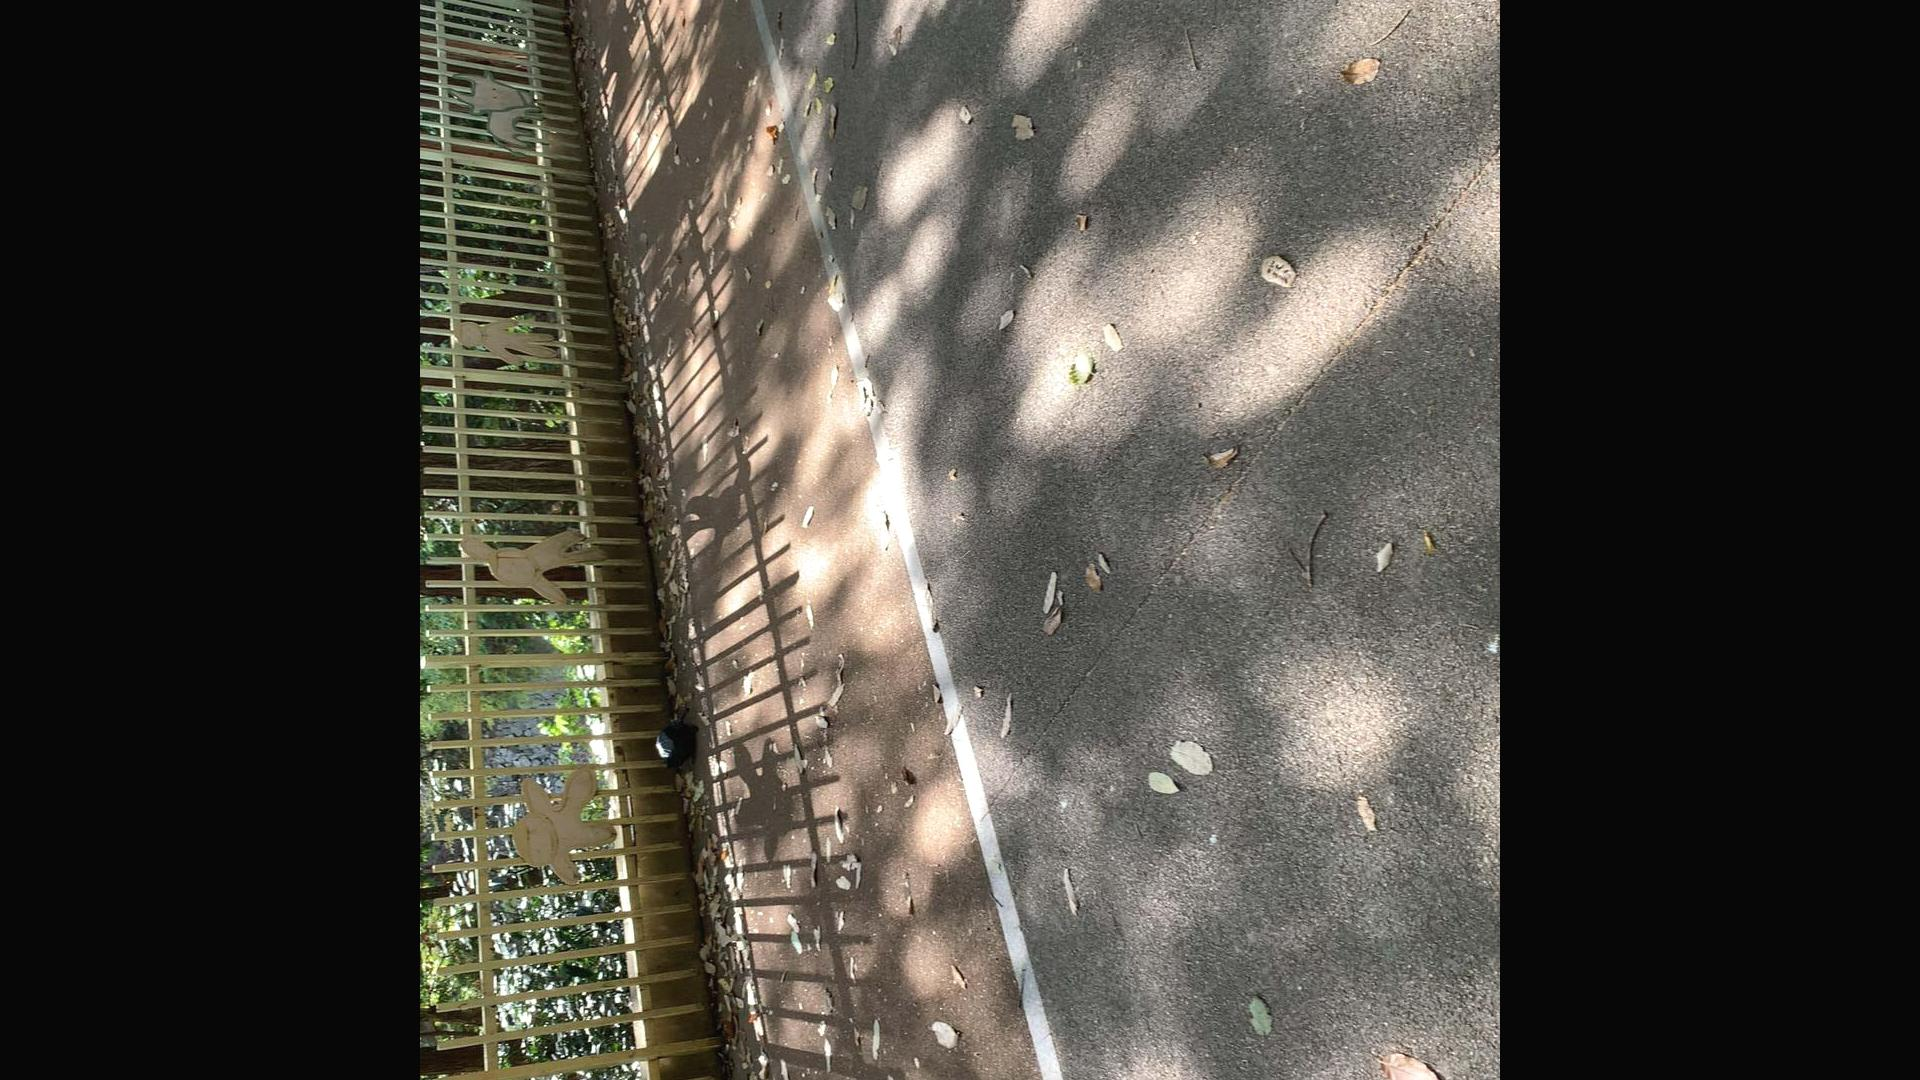black_bag: (651, 716, 698, 770)
